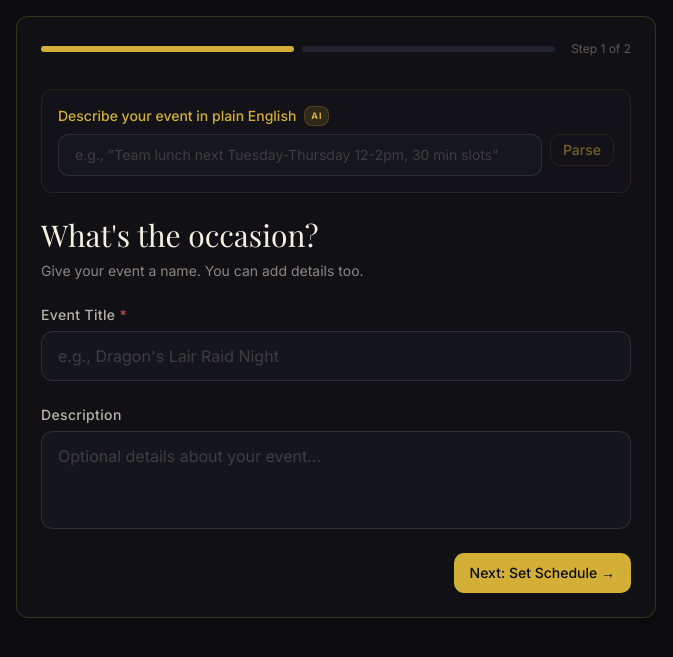
Test: CreateEventPage › validation: shows error when title is too short
Type "A" into the field labelled "Event Title*".
click(336, 356); type("A")  # box [41,331,631,381]
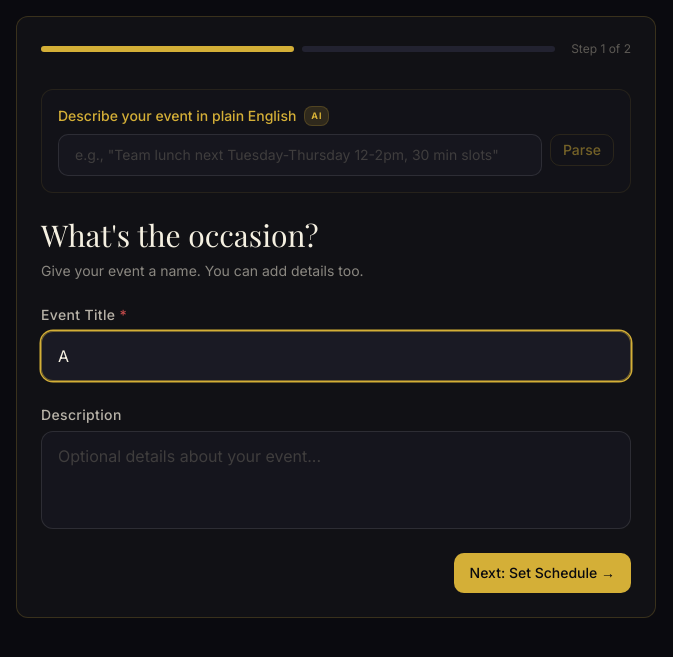
Click the button "Next: Set Schedule →".
click(542, 573)  # box [454,553,631,593]
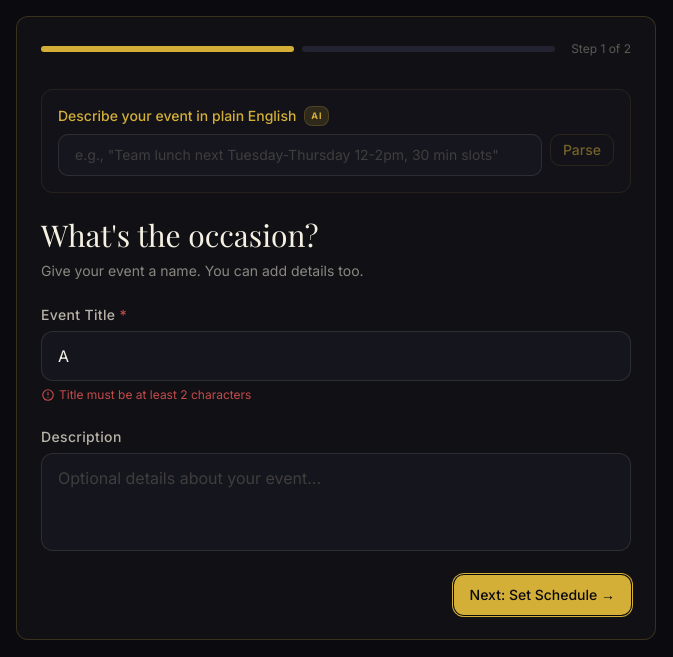
Expected: the text "Title must be at least 2 characters" is shown, [41,387,251,402]
